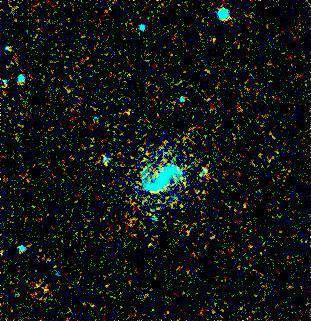star: (0, 69, 21, 99)
